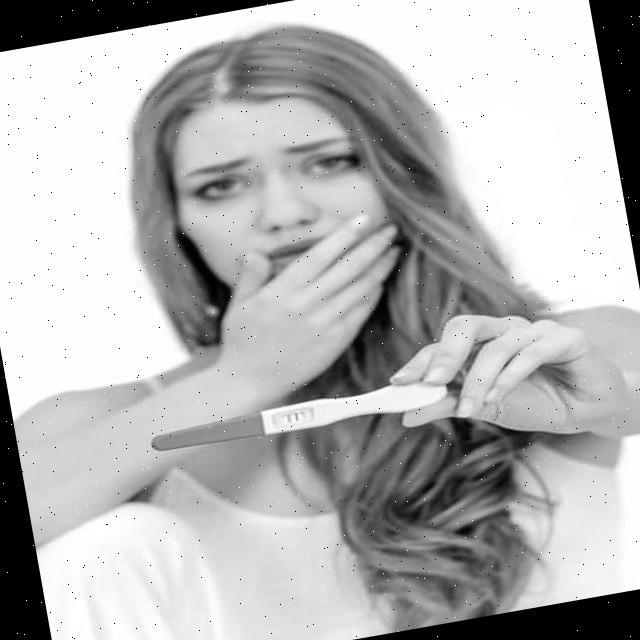Fear: (165, 88, 396, 323)
